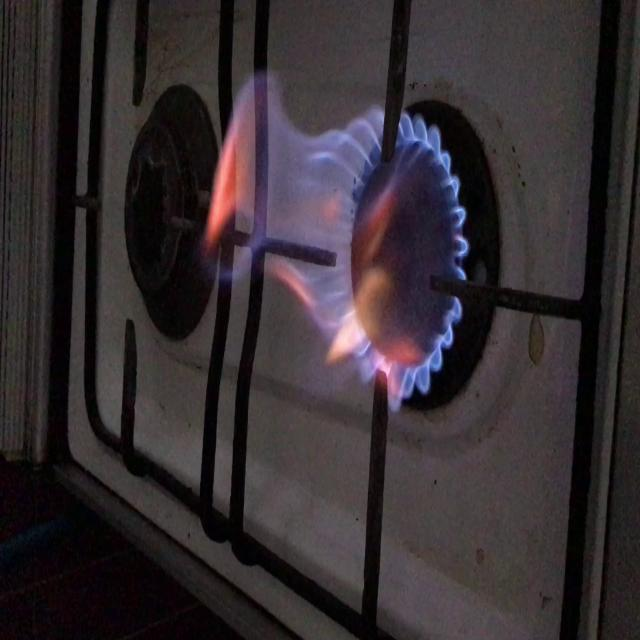smoke: (205, 76, 486, 394)
